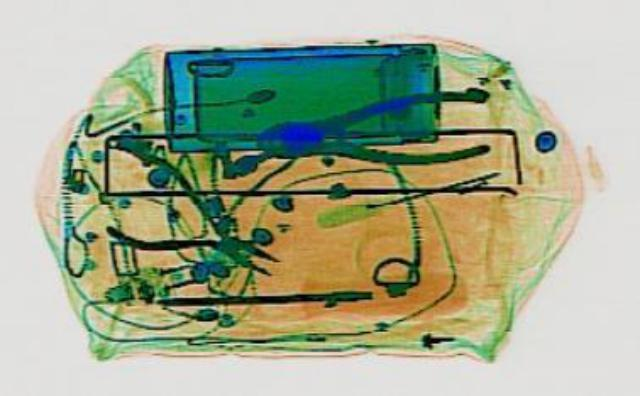Pliers: (53, 148, 321, 296), (247, 85, 505, 174)
